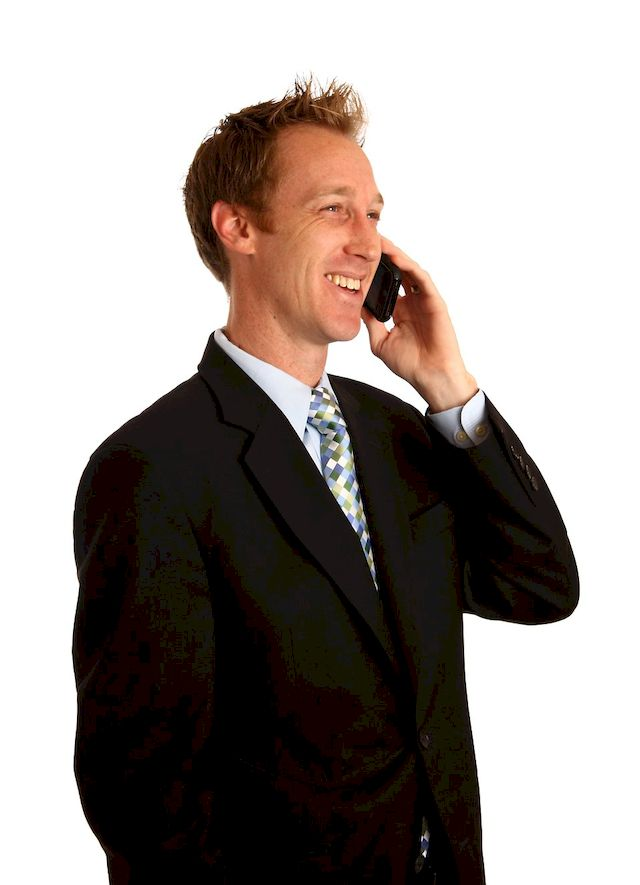phone: (361, 244, 421, 347)
talk: (294, 180, 442, 373)
